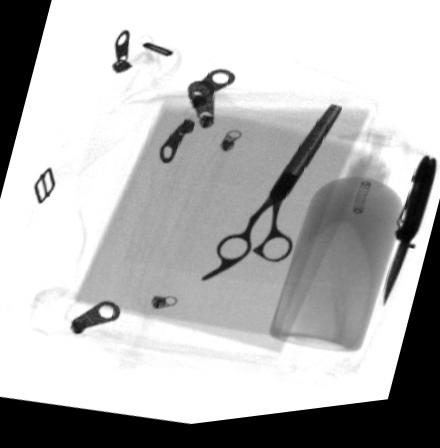Knife: (382, 166, 436, 317)
Scissors: (199, 113, 342, 287)
